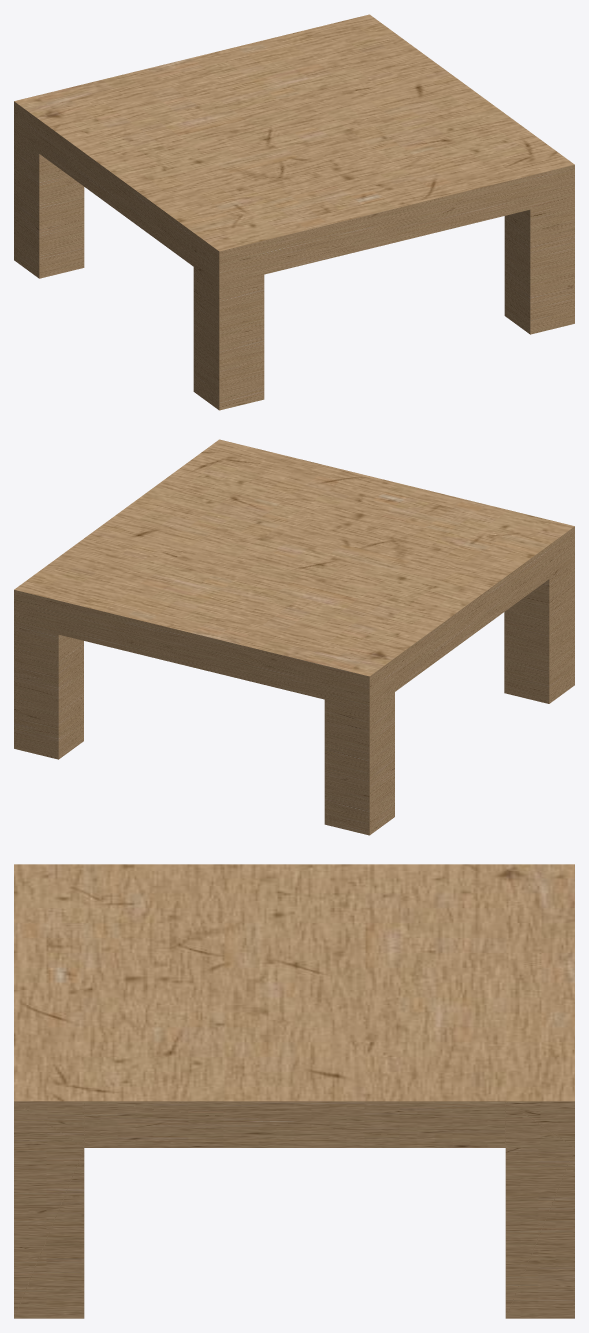
Rendered from Mesa cuadrada grande.fbx.
3 views of the same model, one above another, from view 1: azimuth 30°, elevation 25°; view 2: azimuth 150°, elevation 25°; view 3: azimuth 270°, elevation 25° (orthographic). The views are drawn at different scales.
Visible parts, largest first — view 1: Cube; view 2: Cube; view 3: Cube.
Part boxes in pixels (bbox=[...]): Cube: bbox=[14, 14, 574, 410]; Cube: bbox=[14, 439, 574, 835]; Cube: bbox=[14, 864, 574, 1318].
Size of the model in its own units: 606 by 259 by 606.
1 material, 1 textured.
